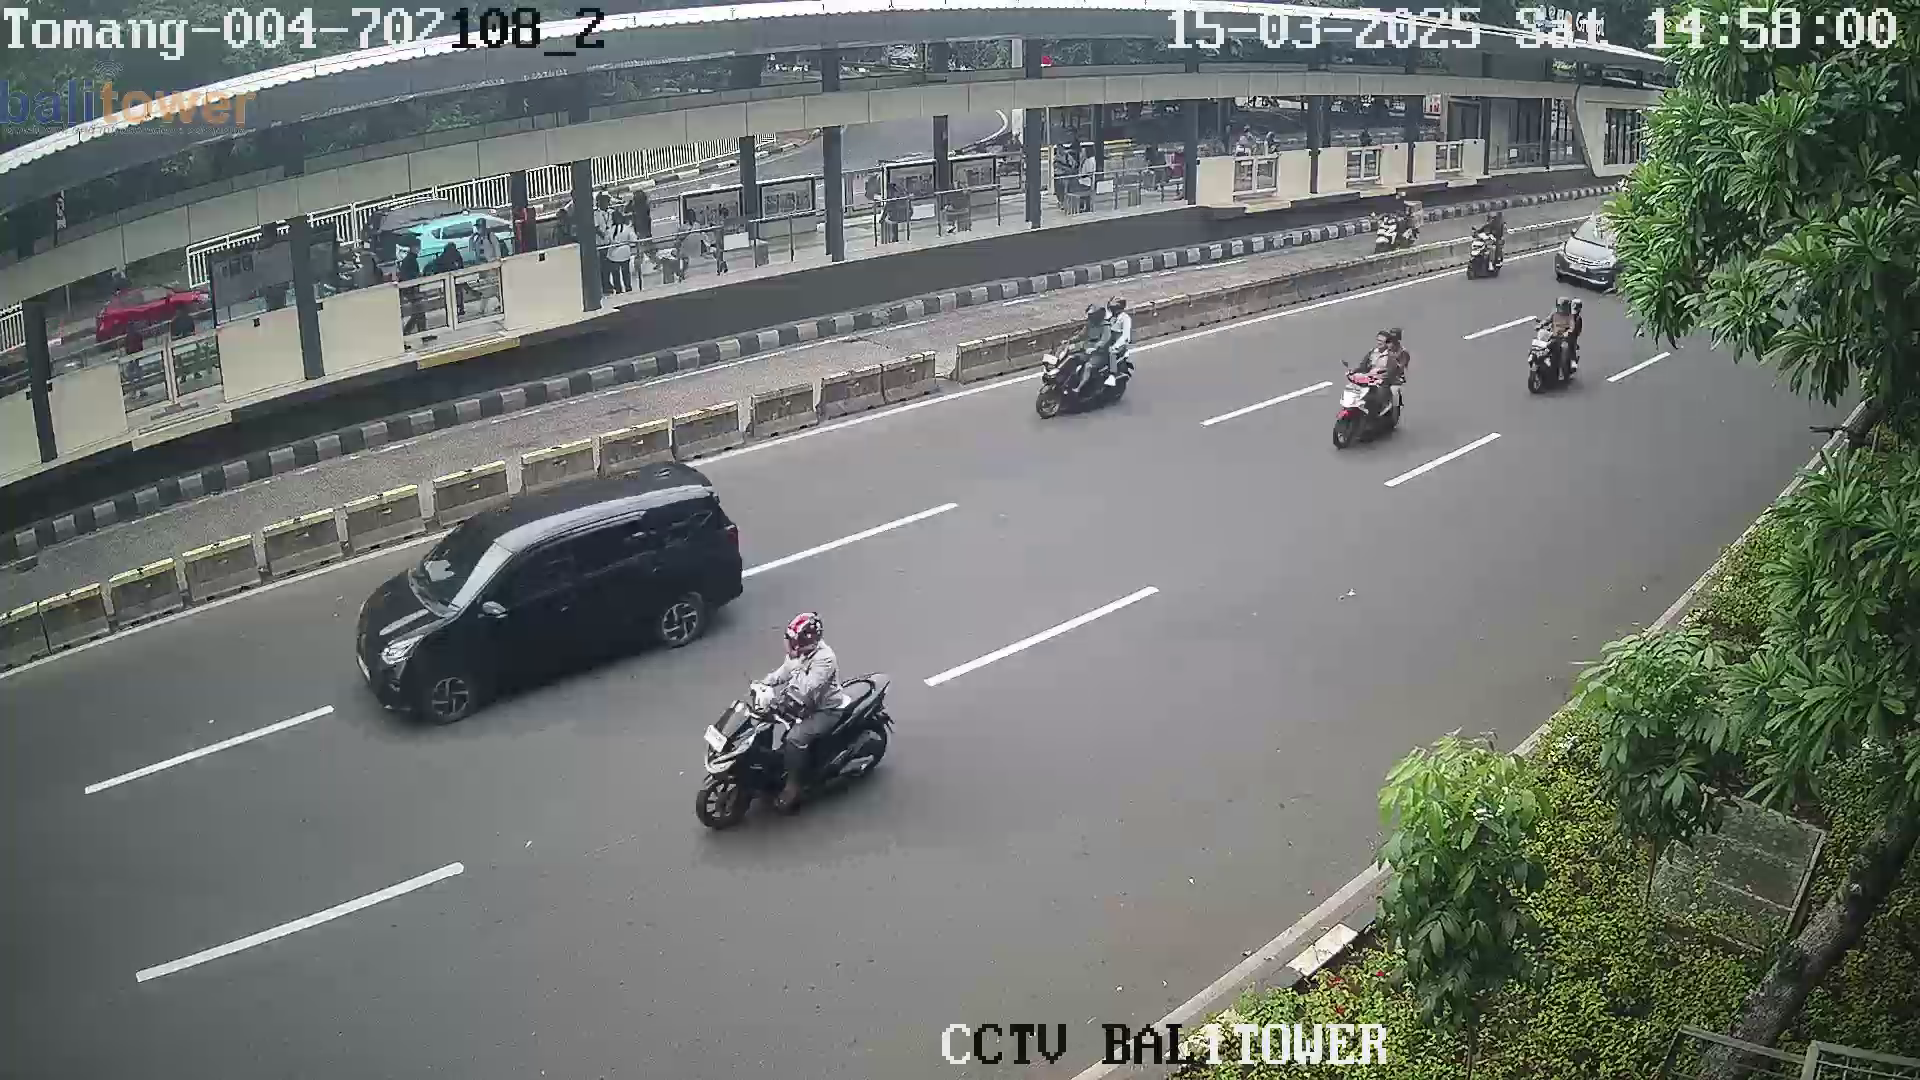full-face helmet: (778, 604, 825, 661)
half-face helmet: (1084, 302, 1106, 335), (1106, 298, 1137, 320), (1555, 302, 1576, 324)
no helmet: (1372, 327, 1392, 357)
